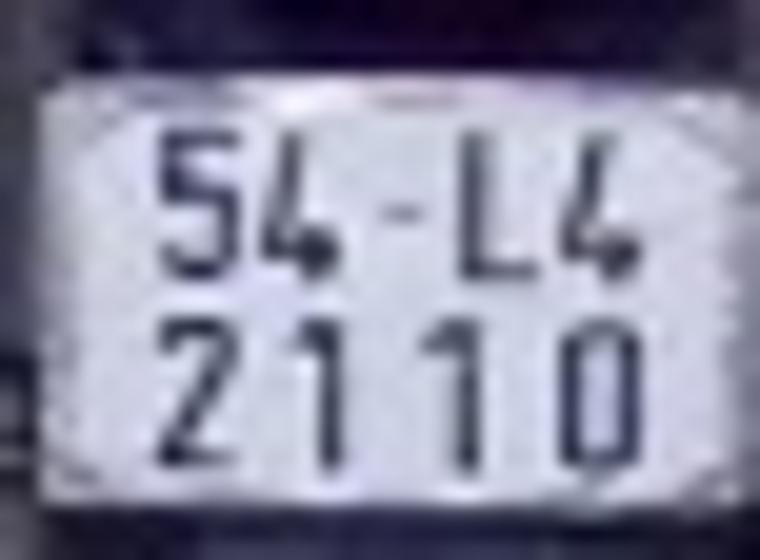-: (380, 202, 421, 224)
0: (553, 315, 645, 477)
1: (422, 318, 487, 470), (290, 312, 343, 474)
2: (157, 315, 241, 466)
4: (560, 130, 641, 280), (259, 128, 339, 279)
5: (155, 127, 239, 275)
L: (456, 130, 540, 280)
